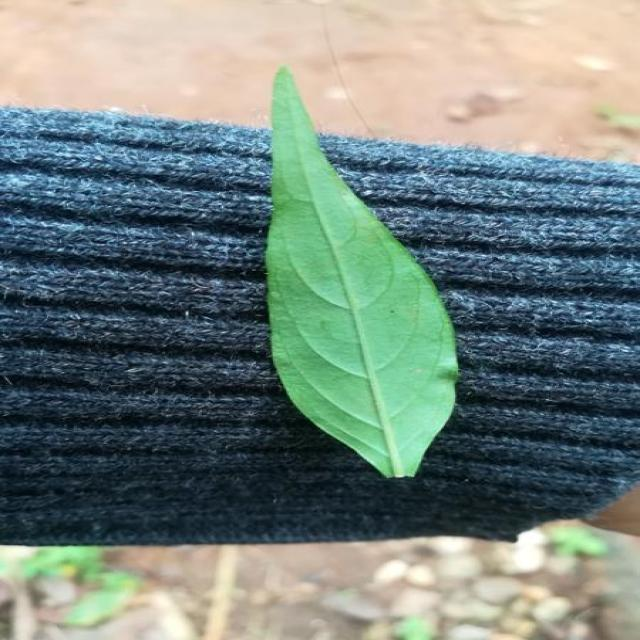Nelavembu: (265, 66, 458, 477)
